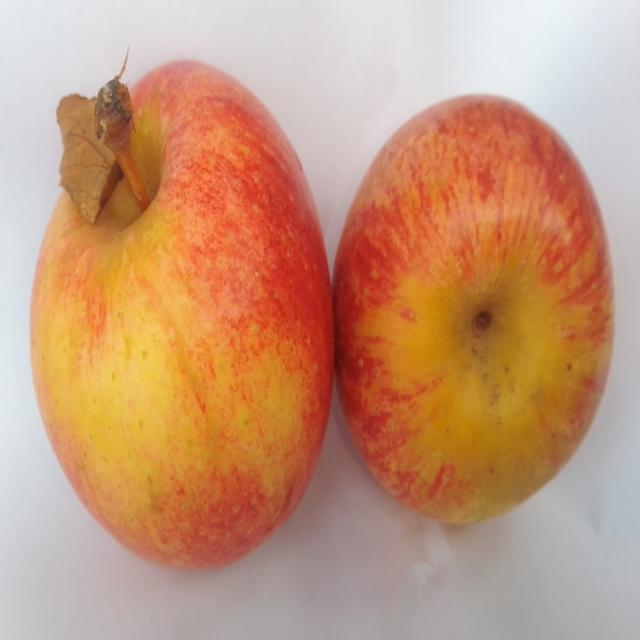Fresh Apple: (38, 75, 330, 580), (342, 110, 610, 528)
